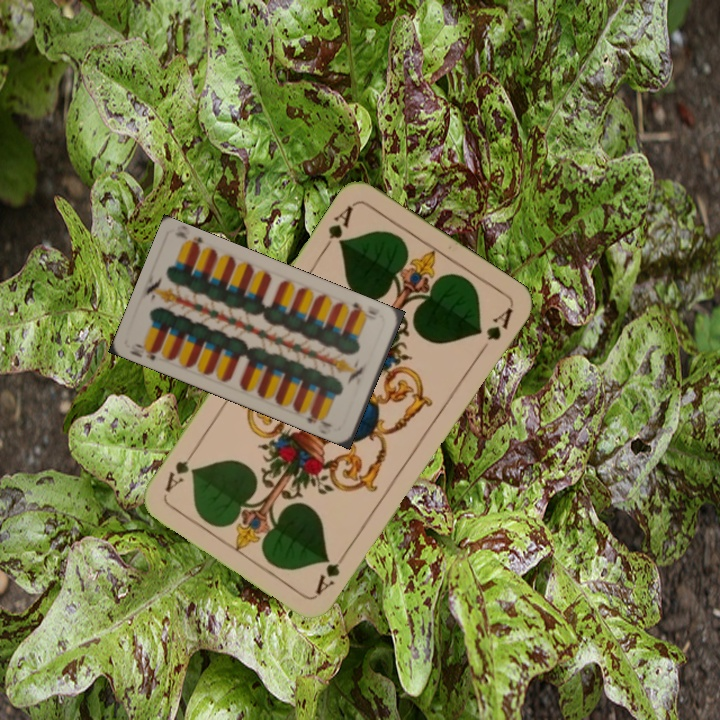E10: (125, 339, 163, 363), (347, 298, 379, 322)
GA: (311, 545, 351, 598), (319, 201, 356, 254)
